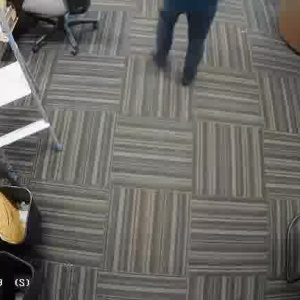person: (146, 0, 220, 91)
